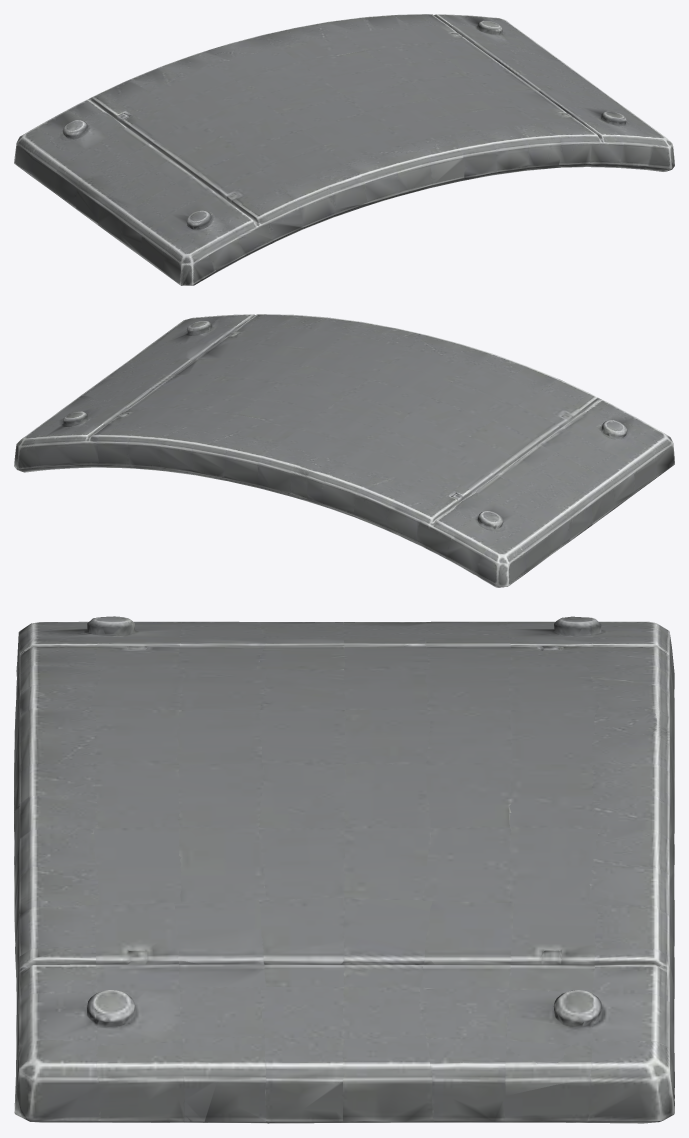
File: armor_curved.glb
3 views of the same model, one above another, from view 1: azimuth 30°, elevation 25°; view 2: azimuth 150°, elevation 25°; view 3: azimuth 270°, elevation 25° (orthographic). The views are drawn at different scales.
Parts seen in each view (by area): view 1: mesh_node; view 2: mesh_node; view 3: mesh_node.
Boxes of the visible parts, box(x1,y1,x2,y2) form: mesh_node: box(14, 14, 674, 285); mesh_node: box(14, 314, 674, 587); mesh_node: box(14, 616, 674, 1123).
Size of the model in its own units: 1.9 by 0.2672 by 1.17.
1 material, 1 textured.
